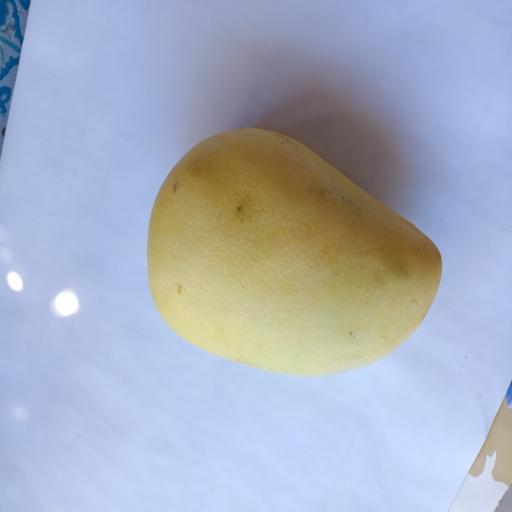mango-ripe: (131, 107, 462, 396)
